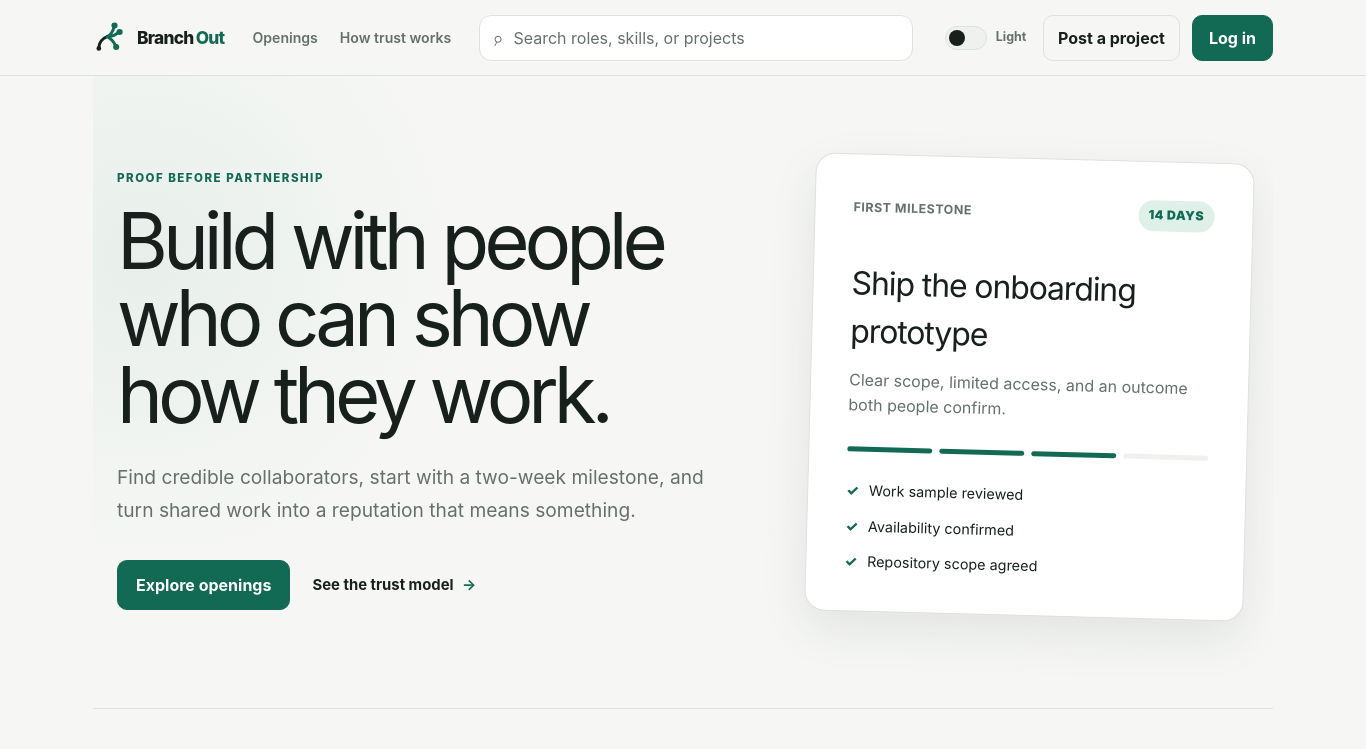
it: HomeExperience › filters openings from the header search through the live API
The width and height of the screenshot is (1366, 749).
In the search field named "search project openings": (702,38) [504,16,900,60], type "accessibility"
(page scrolled)
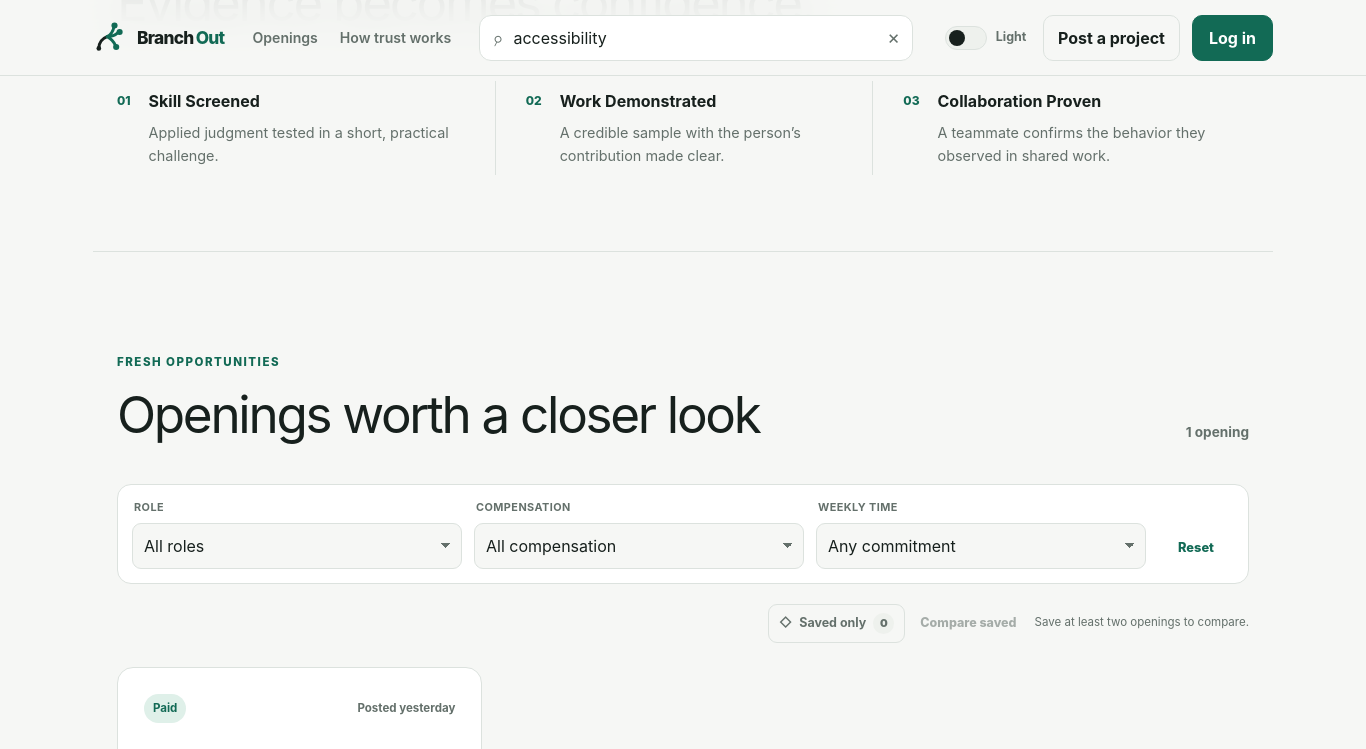
Check: the text "1 opening" is shown, box [1186,422,1249,442]
